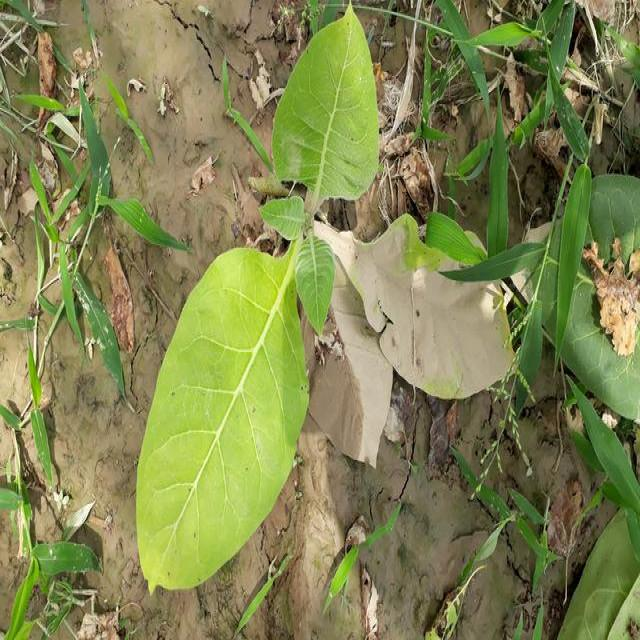crop: (150, 31, 378, 613)
